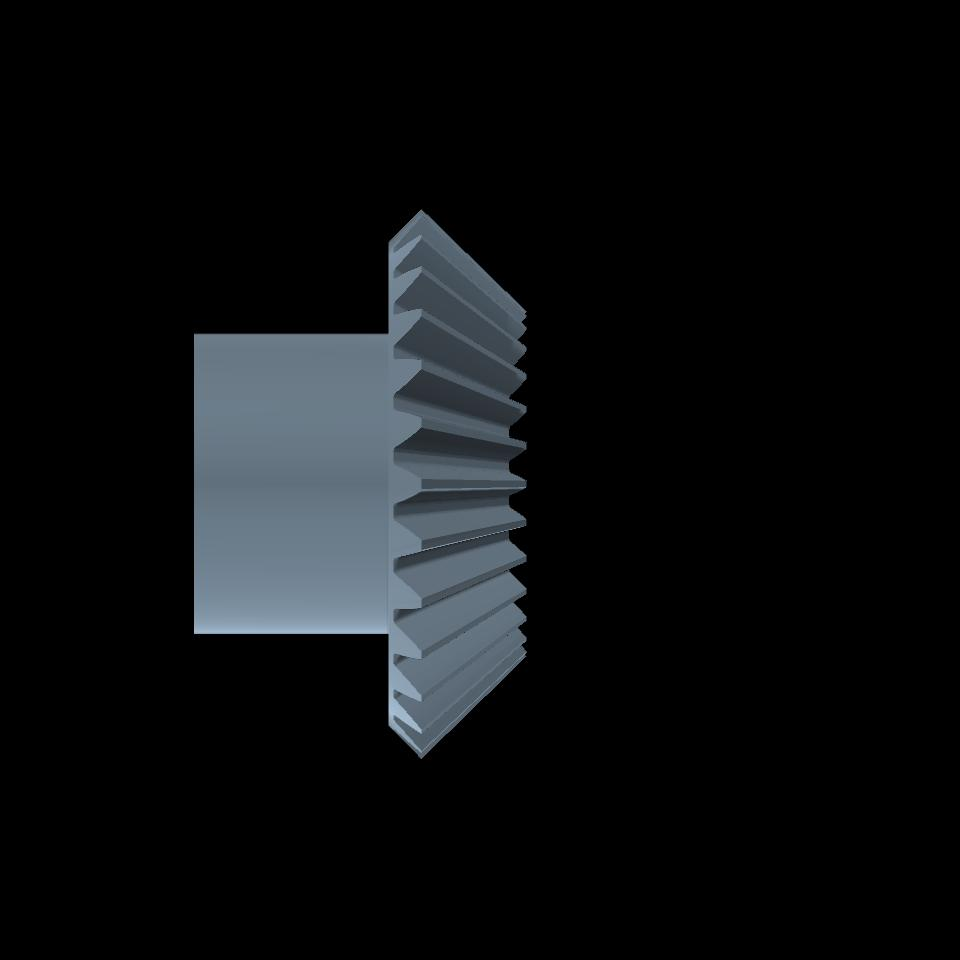Bevel: (388, 211, 528, 758)
